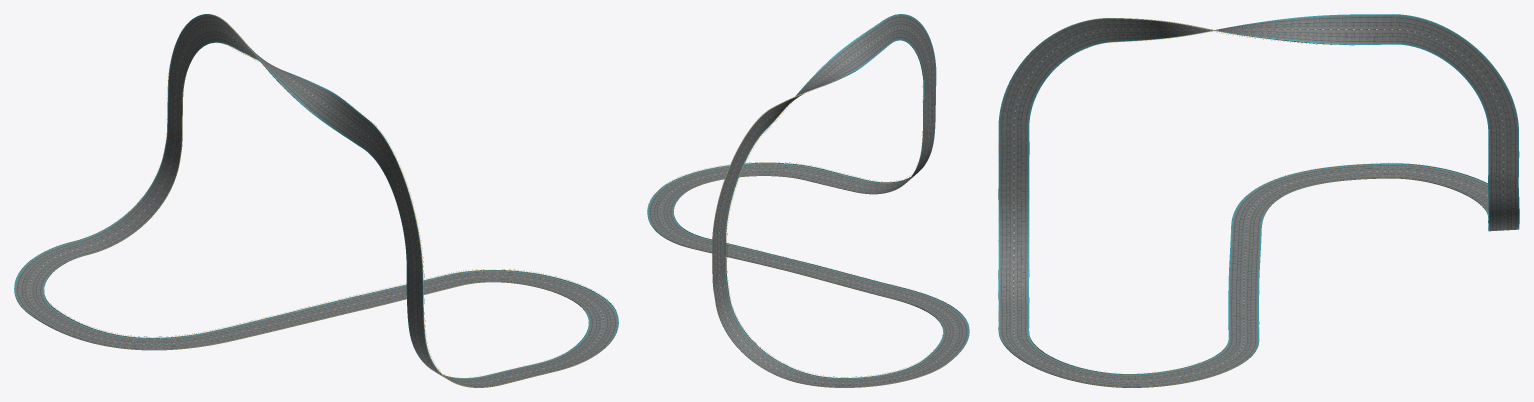
The model's file is glorified8raceTrack.fbx.
3 views of the same model, side by side, from view 1: azimuth 30°, elevation 25°; view 2: azimuth 150°, elevation 25°; view 3: azimuth 270°, elevation 25° (orthographic). The views are drawn at different scales.
Visible parts, largest first — view 1: Main Track, Main TrackRails; view 2: Main Track, Main TrackRails; view 3: Main Track, Main TrackRails.
Boxes of the visible parts, bbox=[...] form: Main Track: bbox=[14, 14, 618, 387]; Main TrackRails: bbox=[14, 14, 618, 387]; Main Track: bbox=[647, 14, 969, 387]; Main TrackRails: bbox=[647, 14, 969, 387]; Main Track: bbox=[998, 14, 1519, 387]; Main TrackRails: bbox=[998, 14, 1519, 387].
Bounding box in the file's own units: 13787 × 7207 × 13580.
